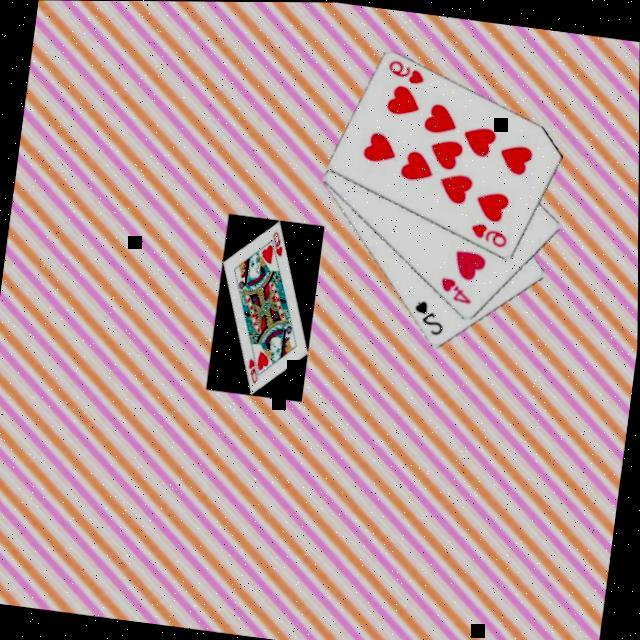2S: (407, 295, 447, 337)
4H: (434, 272, 475, 306)
9H: (464, 218, 509, 249), (382, 55, 426, 86)
